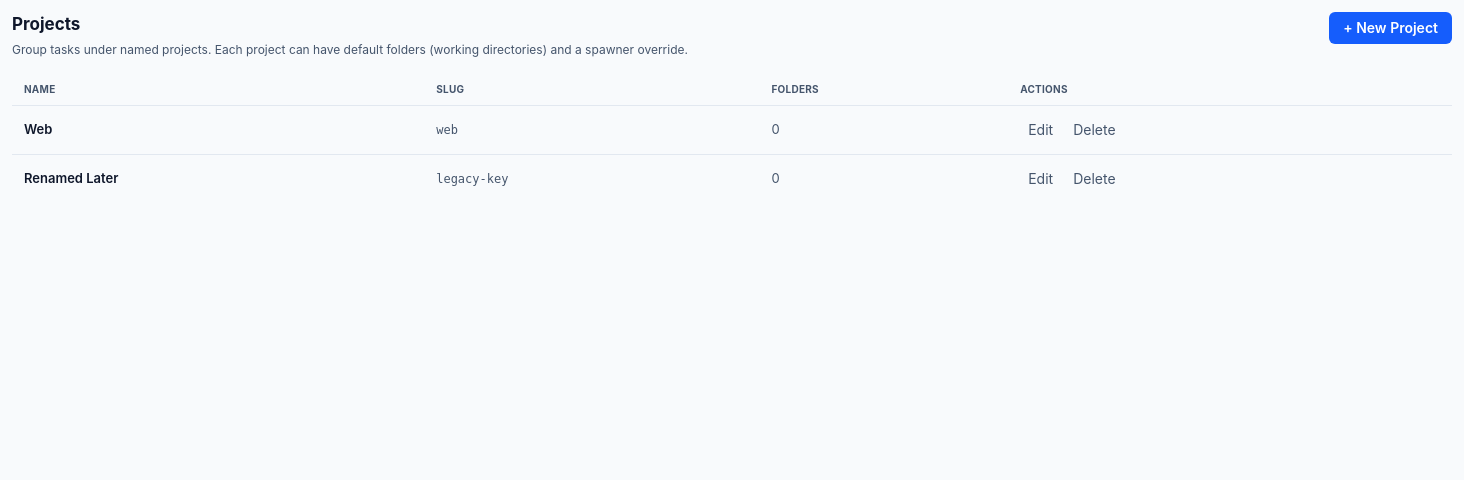
Test case: projectSettings slug › tells the user the slug is derived and what it has to look like
Click the button with test id "proj-new". click: (1391, 28)
box: [1329,12,1452,44]
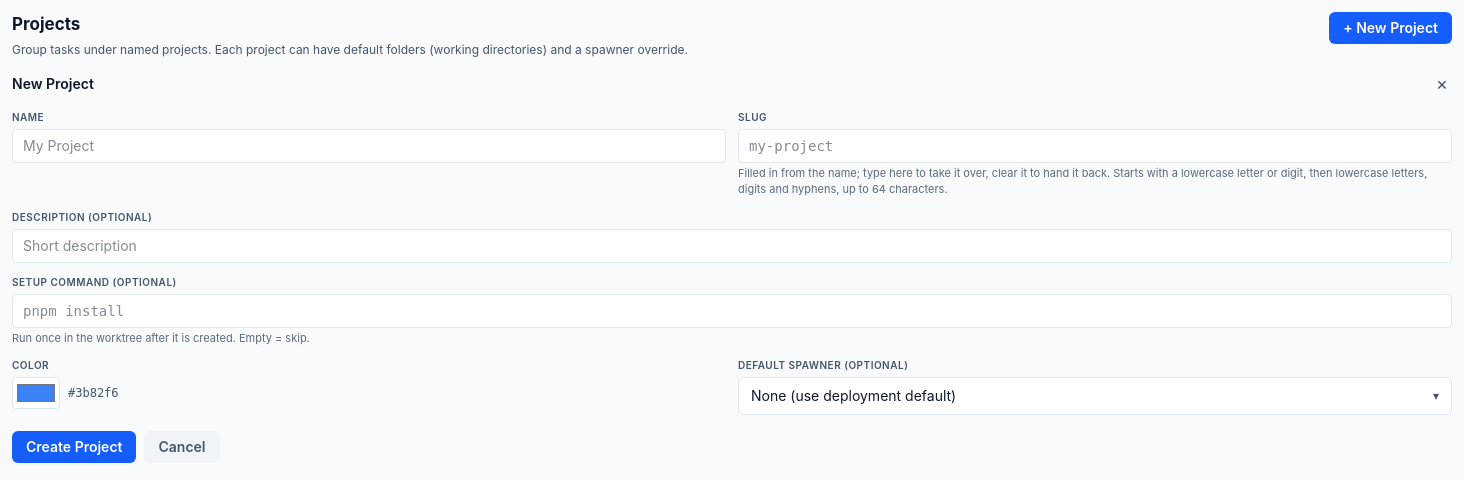
expect the text with test id "proj-slug-hint" shows "64 characters": met, box [738,166,1427,196]
expect the text with test id "proj-slug-hint" shows "Filled in from the name": met, box [738,166,1427,196]
